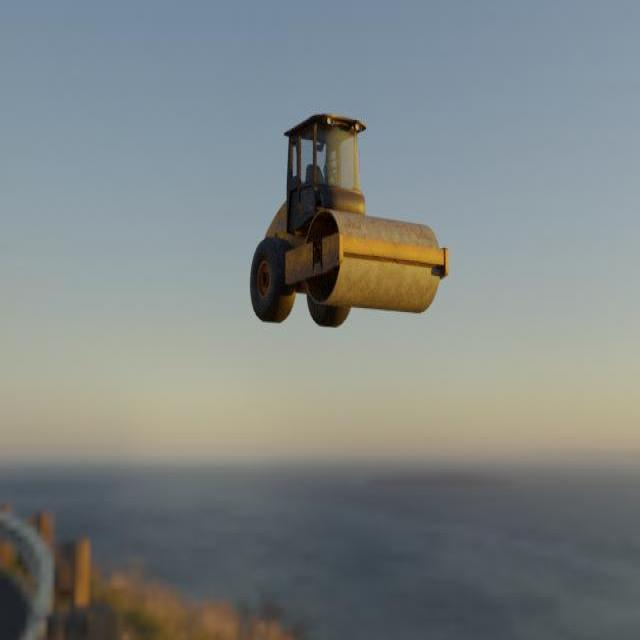Roller: (249, 112, 449, 328)
